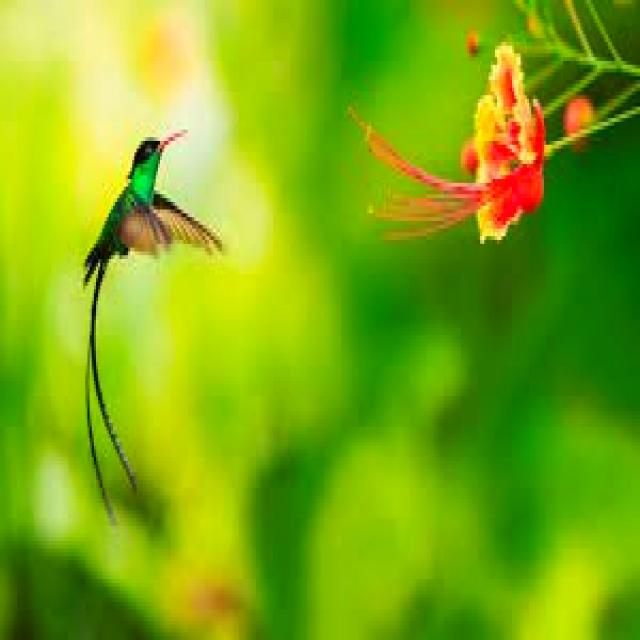hummingbird: (83, 130, 220, 518)
